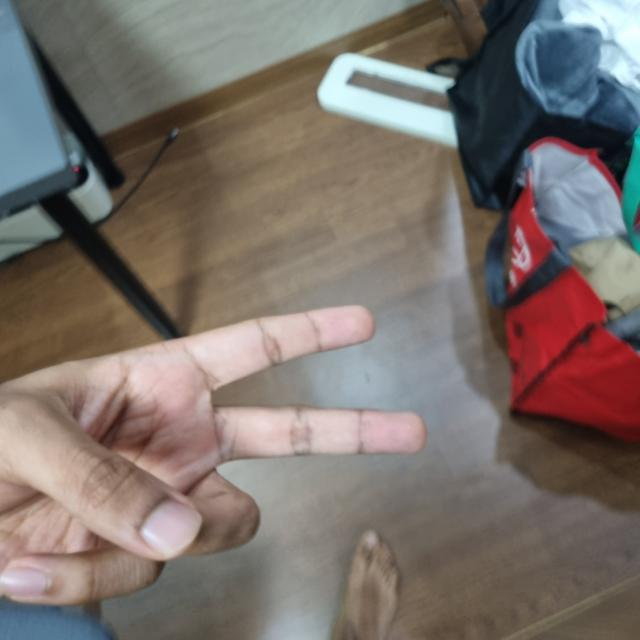Scissors: (0, 306, 425, 609)
